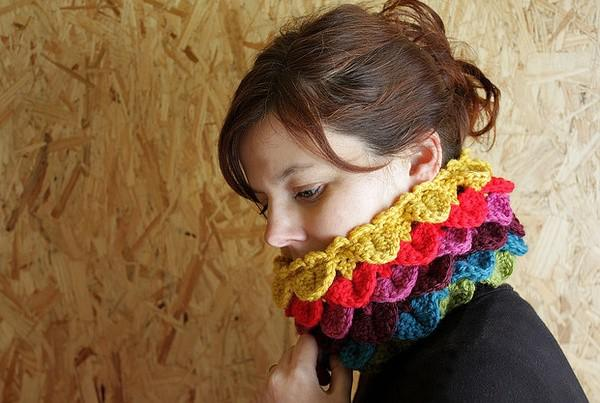WRONG: (256, 148, 431, 323)
